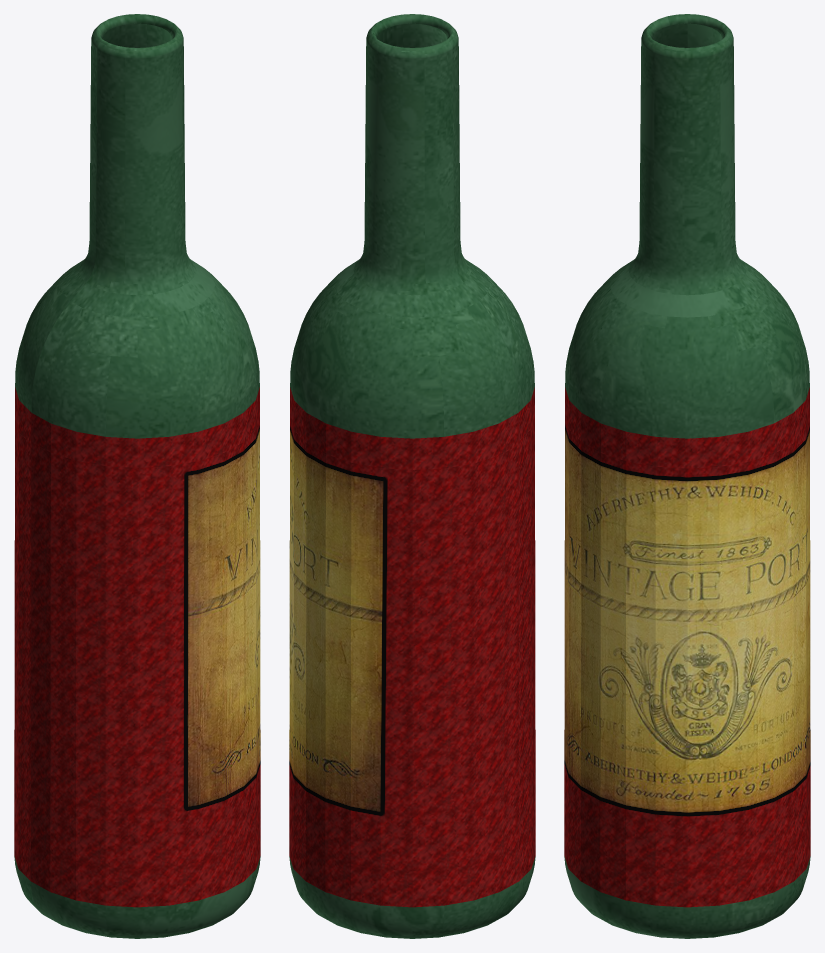
File: wine-bottle.fbx
The picture shows the model from 3 angles, left to right: view 1: azimuth 30°, elevation 25°; view 2: azimuth 150°, elevation 25°; view 3: azimuth 270°, elevation 25°; orthographic projection.
Parts seen in each view (by area): view 1: bottl; view 2: bottl; view 3: bottl.
Boxes of the visible parts, <box> form: bottl: <box>14,14,260,938</box>; bottl: <box>289,14,535,938</box>; bottl: <box>564,14,810,938</box>.
Bounding box in the file's own units: 117 × 454 × 117.
1 material, 1 textured.
